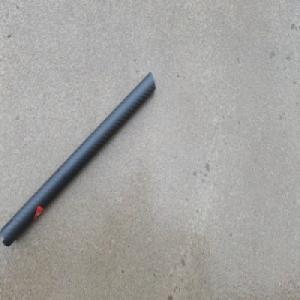LuggagePart: (0, 69, 156, 252)
